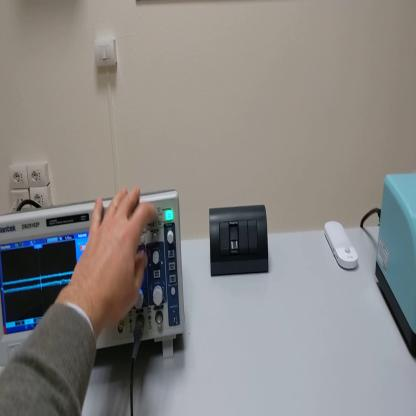hand: (73, 185, 156, 328)
oscilloscope: (1, 184, 186, 373)
welder station: (376, 171, 416, 362)
